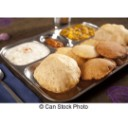poori: (33, 53, 81, 92), (82, 57, 115, 80), (97, 21, 128, 44), (96, 39, 126, 60), (74, 44, 97, 58)
